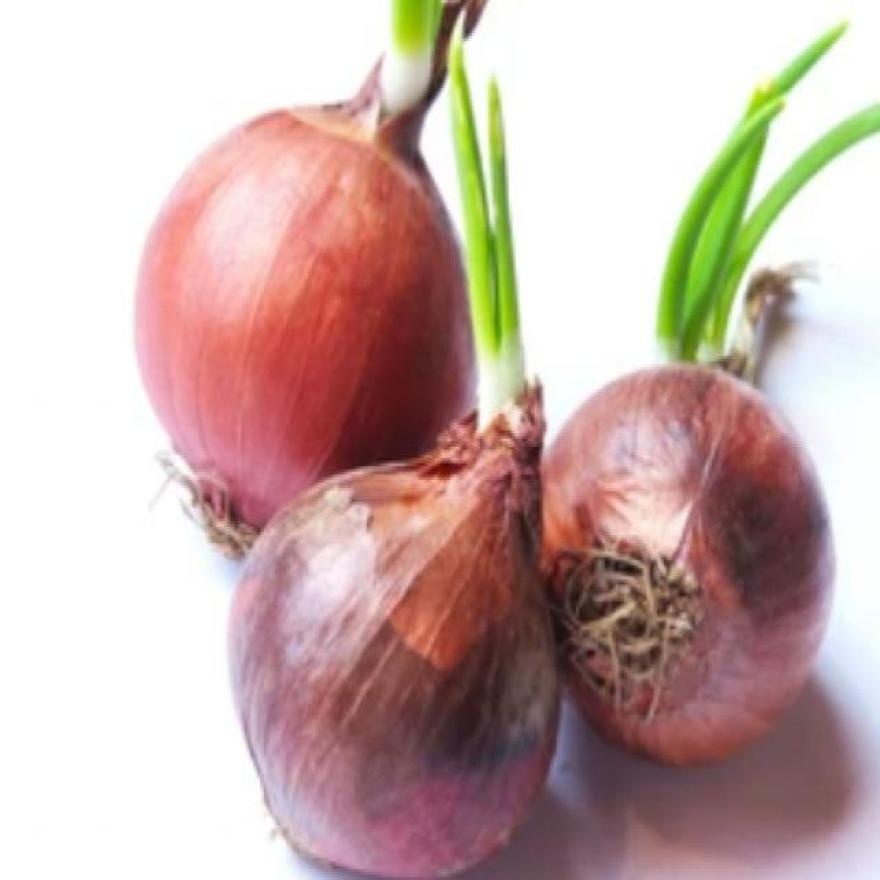Sprouted: (440, 157, 540, 447), (683, 102, 773, 381), (358, 0, 442, 146)
